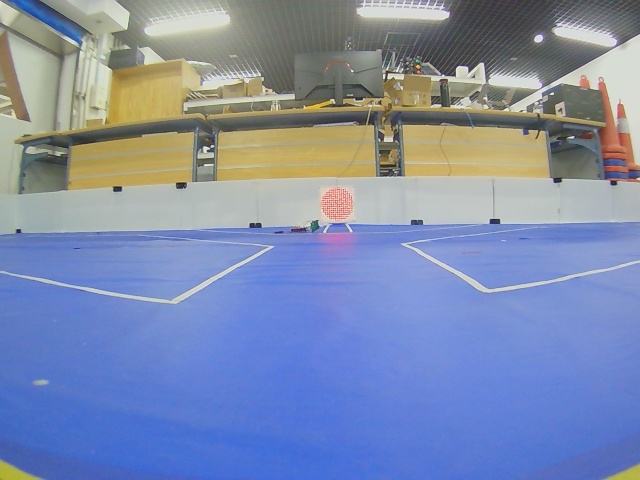red: (320, 187, 354, 223)
